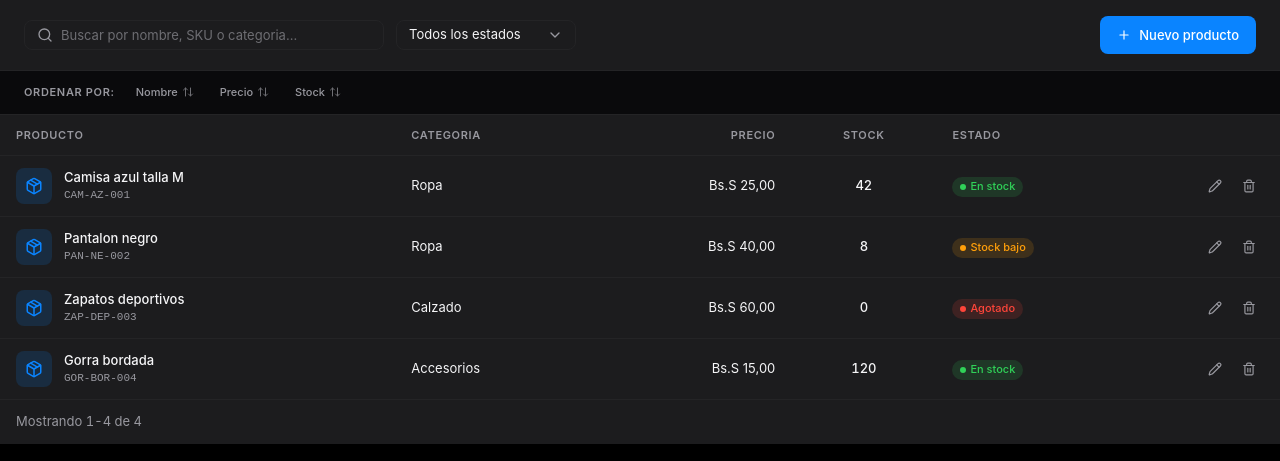
Test: ProductsList › filters products by status
Expected: the text "Camisa azul talla M" is shown, [64,169,184,185]
Select "Agotados" in the dropdown: (486, 35) [409,21,563,49]
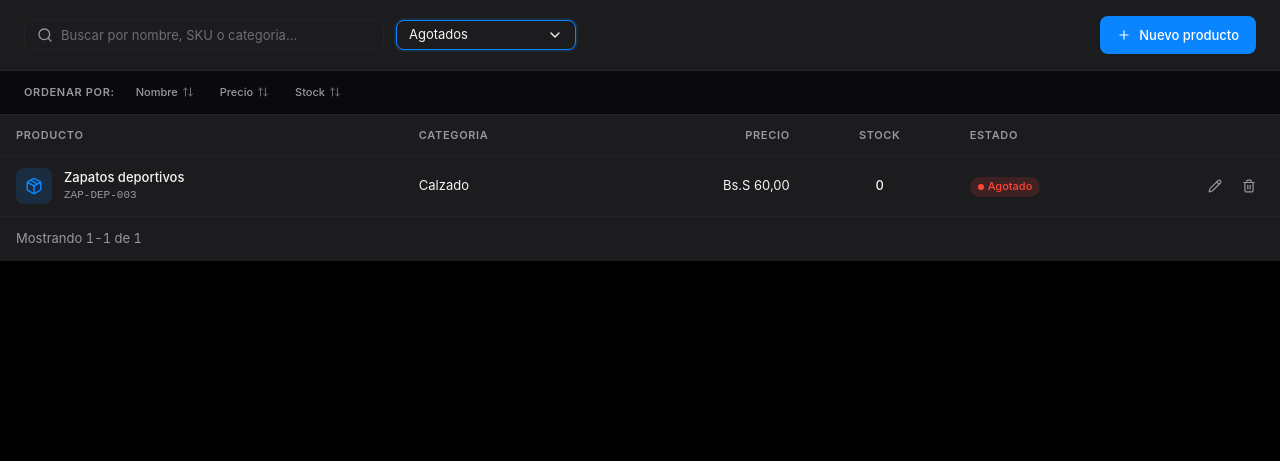
Expected: the text "Zapatos deportivos" is shown, [64,169,184,185]
Now the text "Camisa azul talla M" is gone
